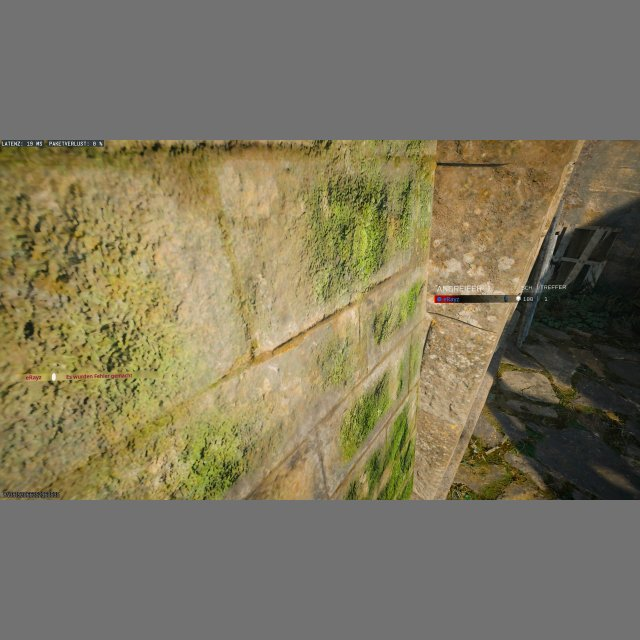player: (249, 339, 258, 361)
